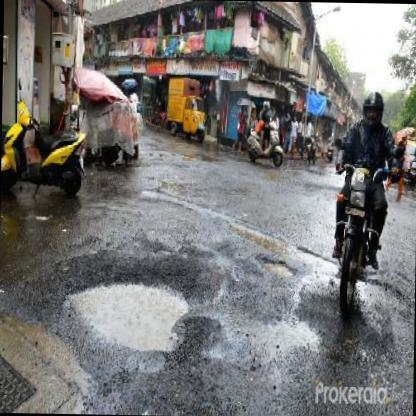pothole: (61, 252, 197, 350), (259, 252, 296, 278)
